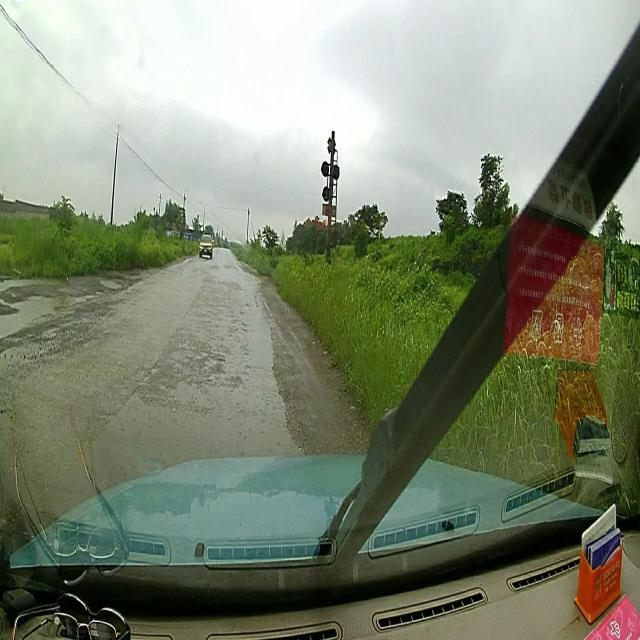car: (198, 234, 214, 258)
